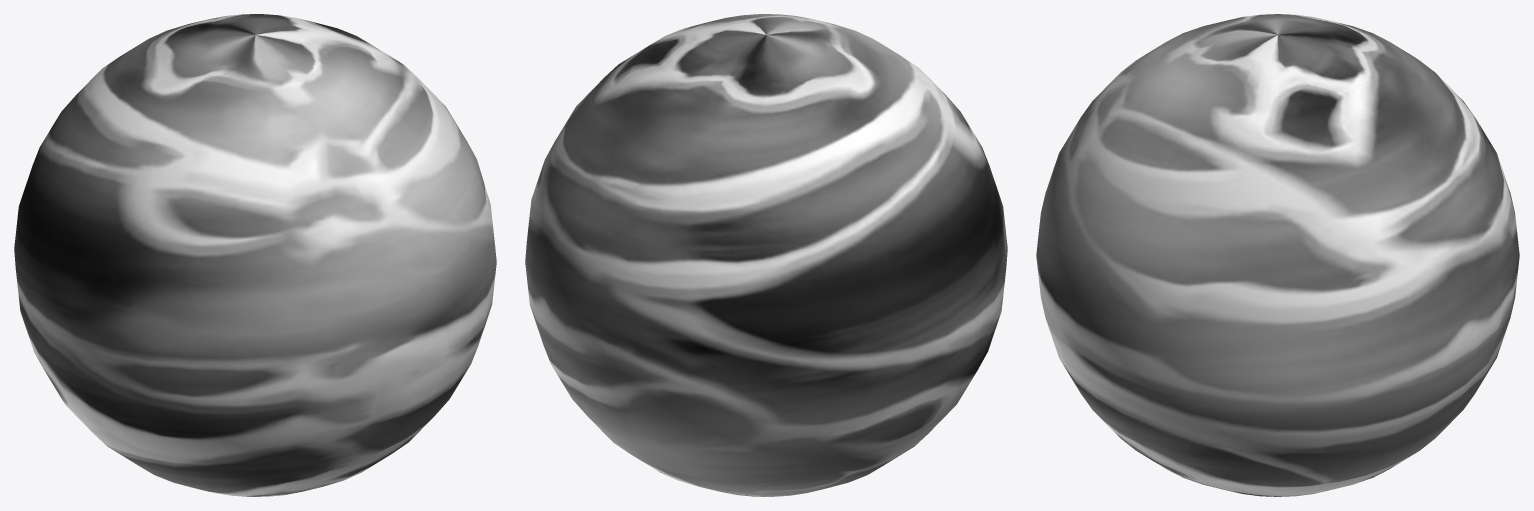
Rendered from A_JD_SkyBox4 1.fbx.
3 renders of one model, left to right at view 1: azimuth 30°, elevation 25°; view 2: azimuth 150°, elevation 25°; view 3: azimuth 270°, elevation 25°, orthographic.
Visible parts, largest first — view 1: Sphere001; view 2: Sphere001; view 3: Sphere001.
Boxes of the visible parts, left/top/right/bottom form: Sphere001: left=14, top=14, right=496, bottom=496; Sphere001: left=525, top=14, right=1007, bottom=496; Sphere001: left=1036, top=14, right=1519, bottom=496.
Size of the model in its own units: 615 by 619 by 615.
